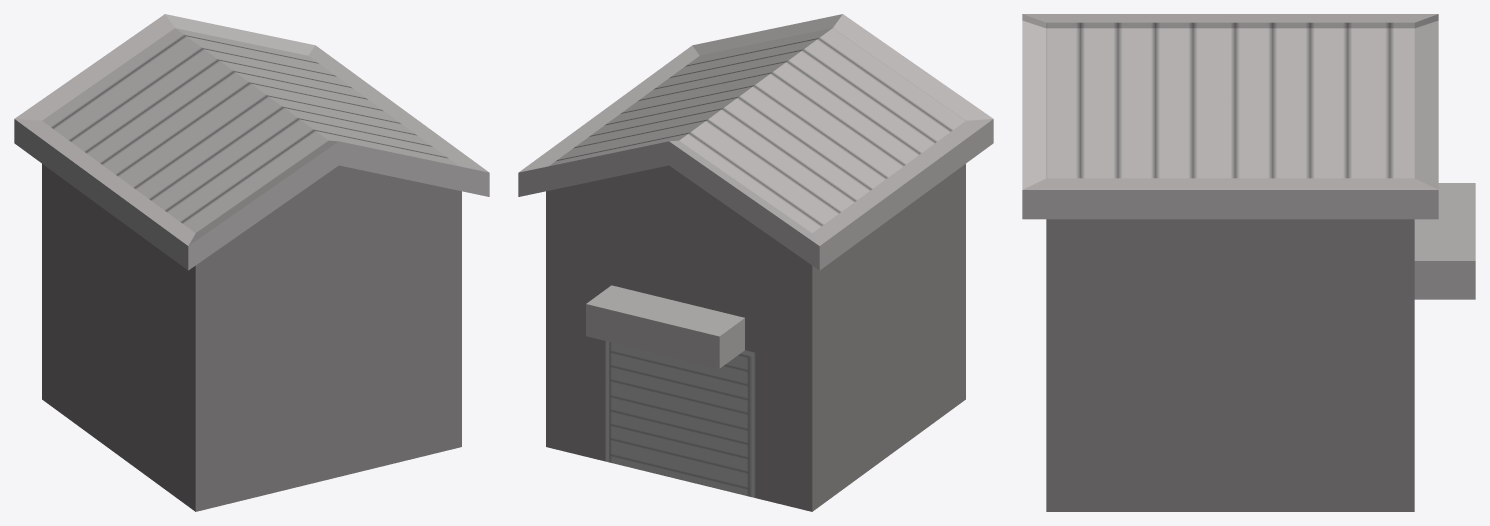
Rendered from buildingcar.fbx.
The picture shows the model from 3 angles, left to right: view 1: azimuth 30°, elevation 25°; view 2: azimuth 150°, elevation 25°; view 3: azimuth 270°, elevation 25°; orthographic projection. The views are drawn at different scales.
Visible parts, largest first — view 1: Cube; view 2: Cube; view 3: Cube.
Part boxes in pixels (x1,y1,x2,y2): Cube: [14, 14, 489, 511]; Cube: [518, 14, 993, 511]; Cube: [1022, 14, 1475, 511].
Bounding box in the file's own units: 226 × 248 × 246.
